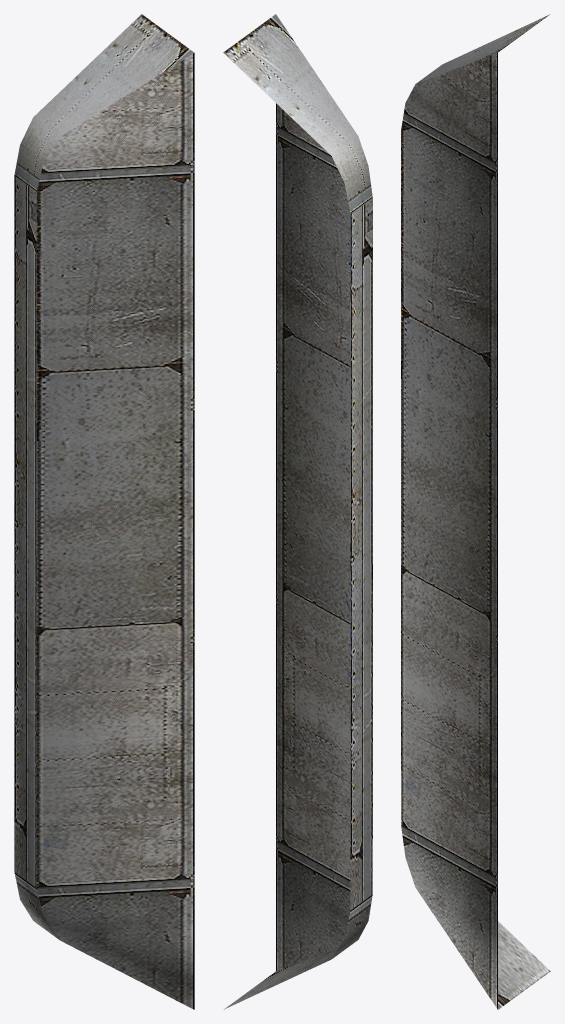
Rendered from Wall_F_Big4mts_09.fbx.
3 views of the same model, side by side, from view 1: azimuth 30°, elevation 25°; view 2: azimuth 150°, elevation 25°; view 3: azimuth 330°, elevation 25° (orthographic).
Visible parts, largest first — view 1: Wall_F_Big4mts_09; view 2: Wall_F_Big4mts_09; view 3: Wall_F_Big4mts_09.
Boxes of the visible parts, x1,y1,x2,y2 form: Wall_F_Big4mts_09: [14, 14, 194, 1009]; Wall_F_Big4mts_09: [223, 14, 372, 1009]; Wall_F_Big4mts_09: [401, 14, 550, 1009].
Size of the model in its own units: 139 by 1000 by 100.
